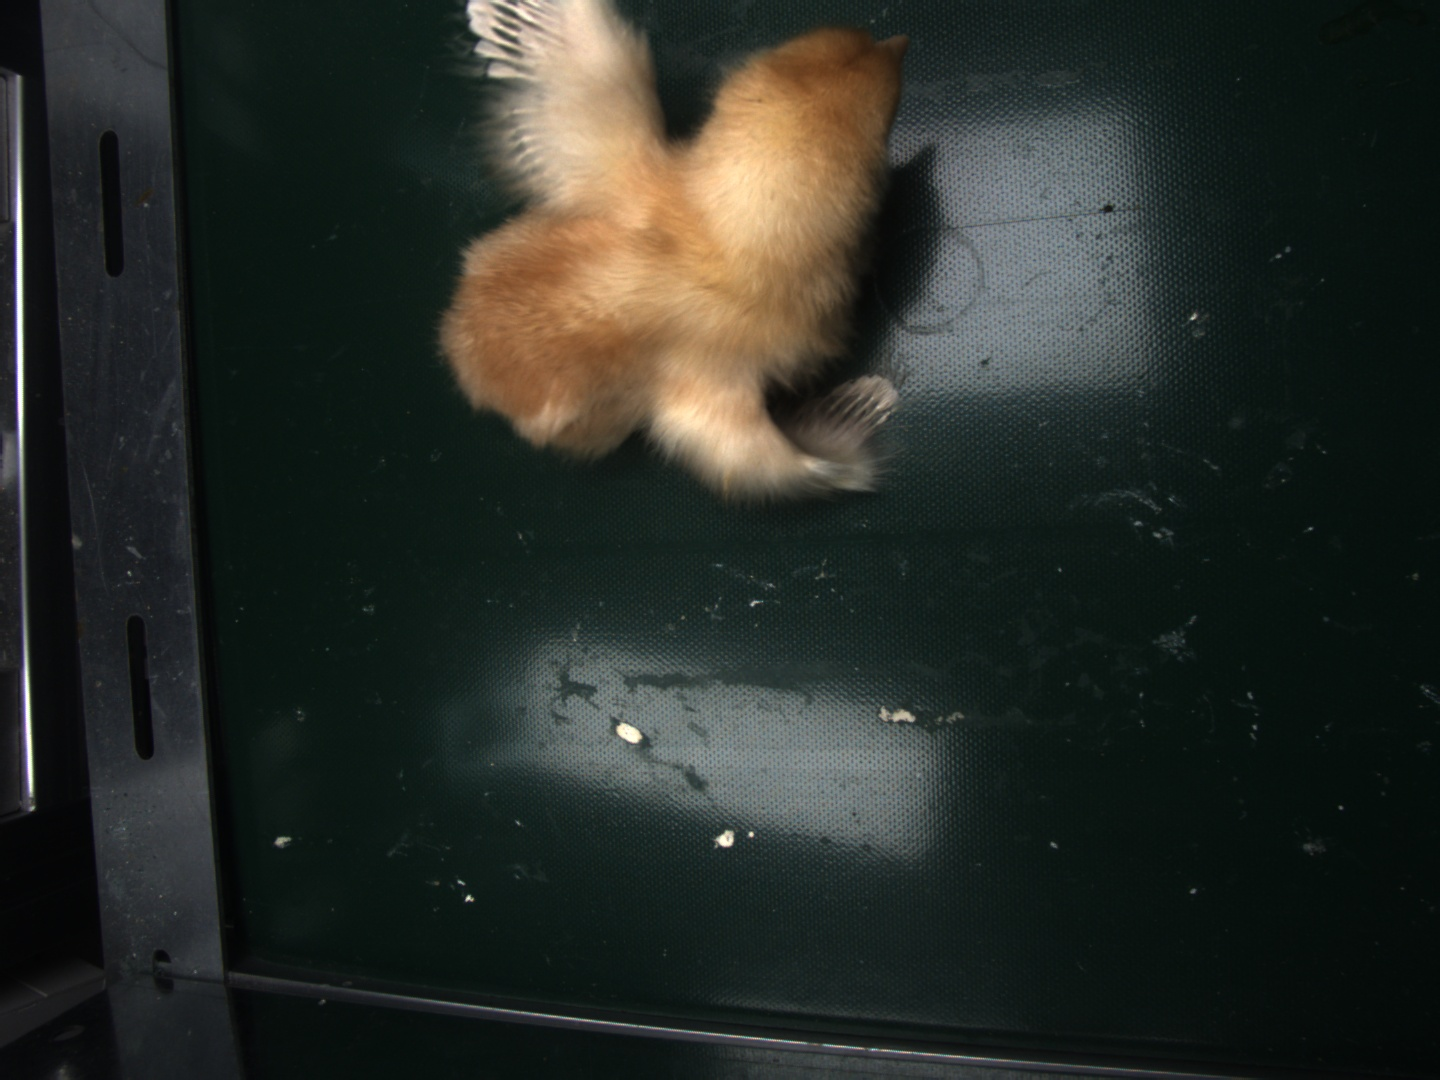female: (466, 1, 567, 79)
